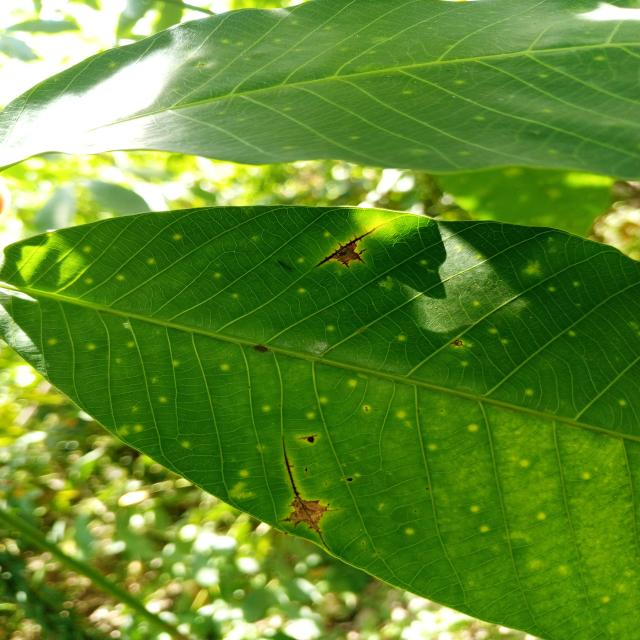Colletotrichum: (452, 340, 462, 346)
Corynespora: (276, 436, 338, 550), (312, 222, 384, 270), (297, 434, 318, 444)
